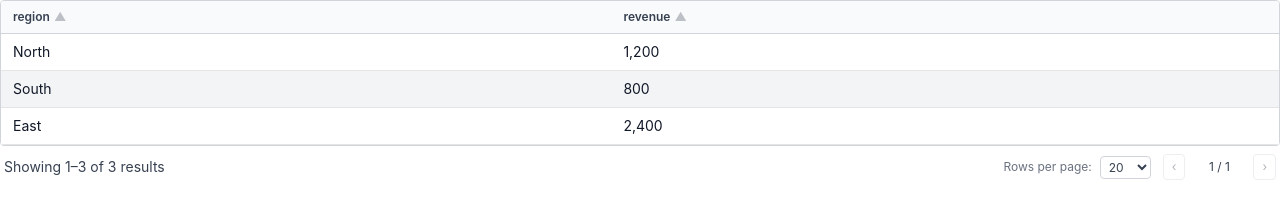
DataTable — sorting › sorts ascending on first click and updates aria-sort
Click the column heading "revenue ▲": [945, 17] box [611,1,1279,34]
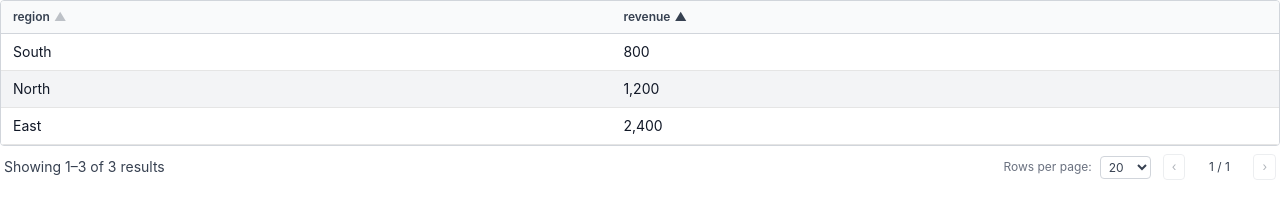
Check: the number of rows is 4, box [1,1,1279,34]; [1,34,1279,70]; [1,70,1279,108]; [1,108,1279,144]
Check: the text "800" is shown, box [611,34,1279,70]
